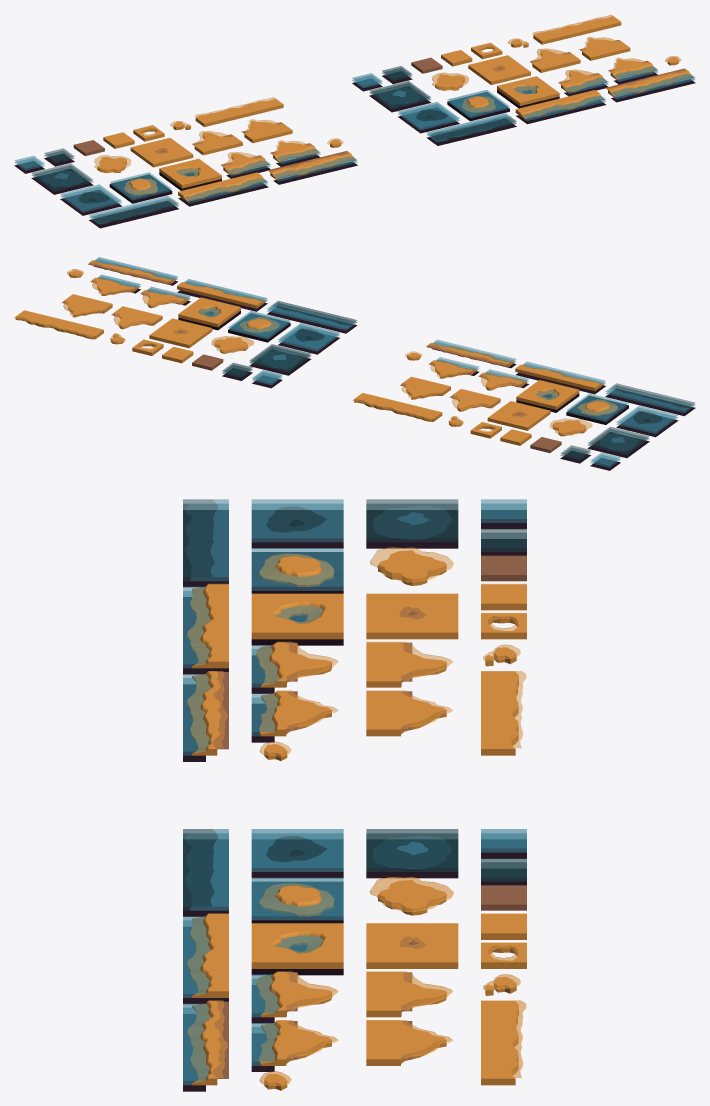
Rendered from free_island.glb.
3 renders of one model, top to bottom at view 1: azimuth 30°, elevation 25°; view 2: azimuth 150°, elevation 25°; view 3: azimuth 270°, elevation 25°, orthographic. The views are drawn at different scales.
Visible parts, largest first — view 1: SandWDiag2T, SandWDiag2, SandWDiag4T, SandWDiag4, SandWDiag3T, SandWDiag3, SandWDiag1T, SandWDiag1, SandWLine1T, SandWLine1, SandWCorn3T, SandWCorn3 (+60 smaller); view 2: SandDiag3T, SandDiag3, SandWCorn1T, SandWCorn1, SandWInCorn1, SandWInCorn1T, SandWDiag3, SandWDiag3T, SandWLine1T, SandWLine1, SandDiag1T, SandDiag1 (+49 smaller); view 3: SandWDiag4, SandWDiag2T, SandWDiag4T, SandWDiag2, SandDiag2T, SandDiag4, SandDiag2, SandDiag4T, SandWInCorn2T, SandWInCorn2, SandWInCorn4, WaterCorn2T (+80 smaller).
Boxes of the visible parts, x1,y1,x2,y2 form: SandWDiag2T: [568, 69, 608, 91]; SandWDiag2: [231, 152, 270, 173]; SandWDiag4T: [618, 57, 658, 79]; SandWDiag4: [280, 140, 320, 161]; SandWDiag3T: [608, 58, 638, 84]; SandWDiag3: [270, 140, 300, 166]; SandWDiag1T: [558, 70, 588, 96]; SandWDiag1: [221, 152, 250, 178]; SandWLine1T: [515, 104, 546, 124]; SandWLine1: [178, 187, 208, 206]; SandWCorn3T: [458, 101, 489, 121]; SandWCorn3: [121, 184, 152, 203]; SandDiag3T: [71, 299, 112, 317]; SandDiag3: [409, 381, 450, 399]; SandWCorn1T: [248, 322, 279, 342]; SandWCorn1: [586, 405, 617, 424]; SandWInCorn1: [536, 394, 567, 412]; SandWInCorn1T: [198, 312, 229, 330]; SandWDiag3: [438, 362, 478, 378]; SandWDiag3T: [100, 279, 140, 295]; SandWLine1T: [236, 293, 267, 311]; SandWLine1: [575, 376, 605, 394]; SandDiag1T: [121, 311, 162, 328]; SandDiag1: [459, 393, 500, 411]; SandWDiag4: [251, 709, 338, 742]; SandWDiag2T: [251, 990, 338, 1023]; SandWDiag4T: [251, 1039, 338, 1071]; SandWDiag2: [251, 661, 338, 693]; SandDiag2T: [366, 990, 453, 1017]; SandDiag4: [366, 709, 452, 736]; SandDiag2: [366, 661, 453, 687]; SandDiag4T: [366, 1039, 452, 1065]; SandWInCorn2T: [297, 942, 343, 975]; SandWInCorn2: [297, 612, 343, 645]; SandWInCorn4: [251, 612, 297, 645]; WaterCorn2T: [412, 848, 458, 878].
Size of the model in its own units: 60.75 by 0.65 by 15.
Materials: 8 (2 with a texture image).
